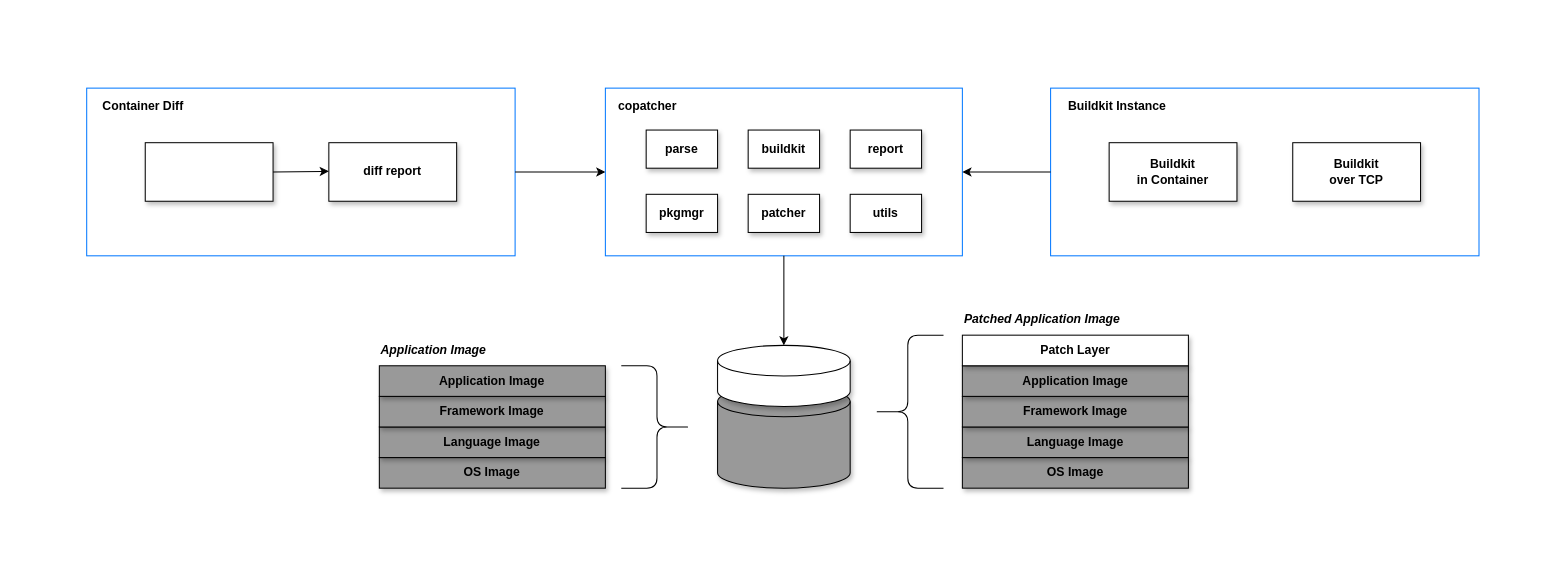
Some shapes in this 1566 by 576 pixel diagram are drawn without their labels. Here are the shapes that lost their labels. From the top down, the centre of each, then its label:
At point 209,173: "container-diff".
At point 784,377: "Patch Diff".
At point 784,438: "Filesystem Bundle".
